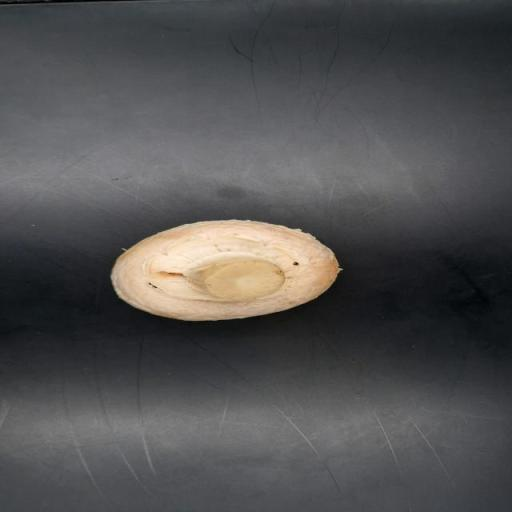mushroom: (108, 215, 343, 327)
